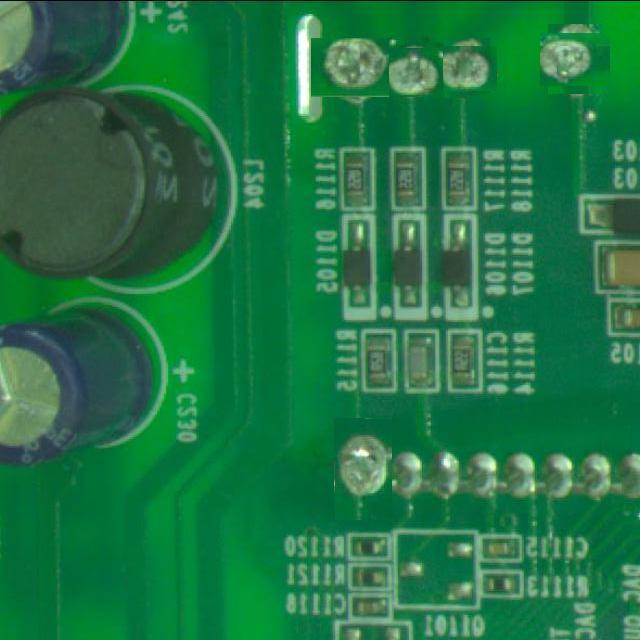lack_of_part: (334, 418, 392, 520), (316, 33, 385, 102), (544, 28, 606, 90), (382, 44, 439, 102), (441, 42, 494, 94)
